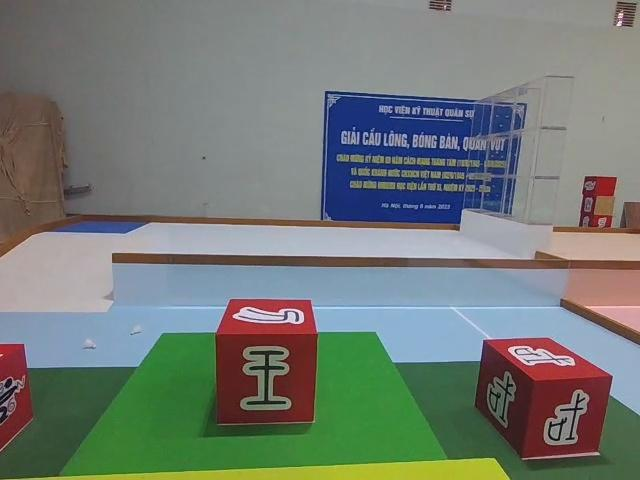R2 Fake: (213, 296, 321, 428)
R2 Real: (473, 334, 614, 461)
